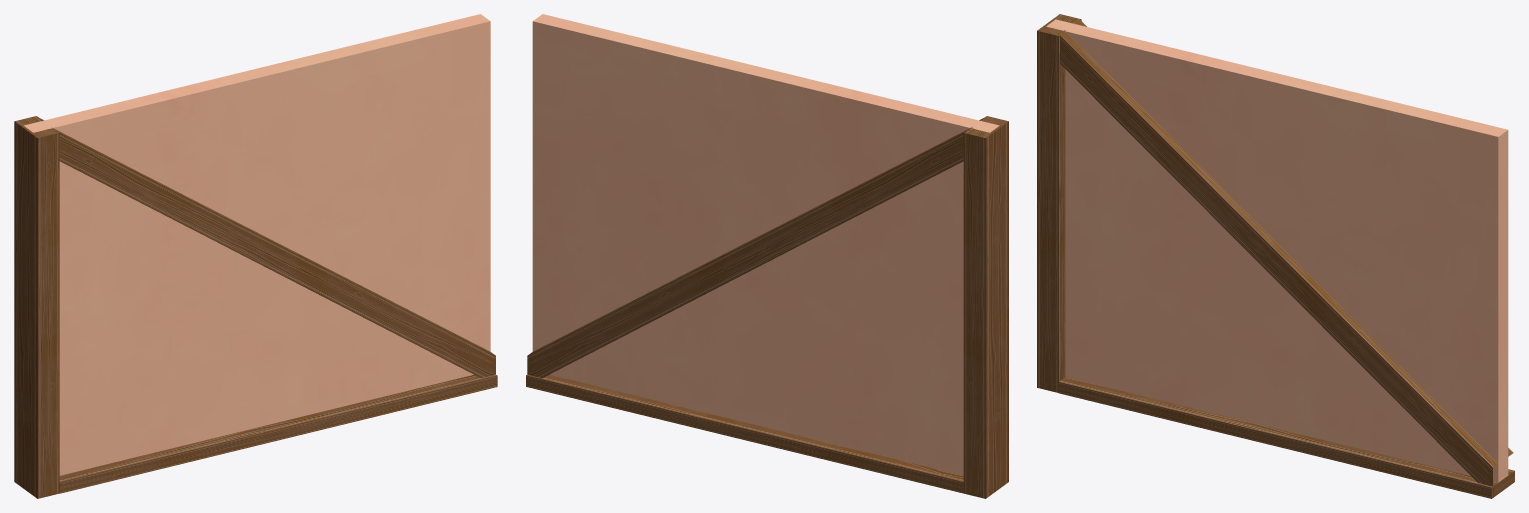
The model's file is SM_Large_Wall_02_wrose.glb.
The picture shows the model from 3 angles, left to right: view 1: azimuth 30°, elevation 25°; view 2: azimuth 150°, elevation 25°; view 3: azimuth 330°, elevation 25°; orthographic projection.
Parts seen in each view (by area): view 1: SM_Large_Wall_02; view 2: SM_Large_Wall_02; view 3: SM_Large_Wall_02.
Part boxes in pixels (x1,y1,x2,y2): SM_Large_Wall_02: (14,14,497,498); SM_Large_Wall_02: (526,14,1008,498); SM_Large_Wall_02: (1037,14,1514,498).
Size of the model in its own units: 4 by 3.01 by 0.3524.
Materials: 2 (2 with a texture image).
